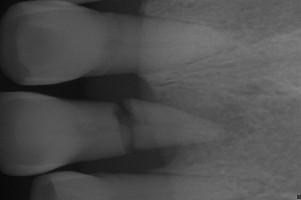Furcation Involvement: (182, 103, 257, 146)
